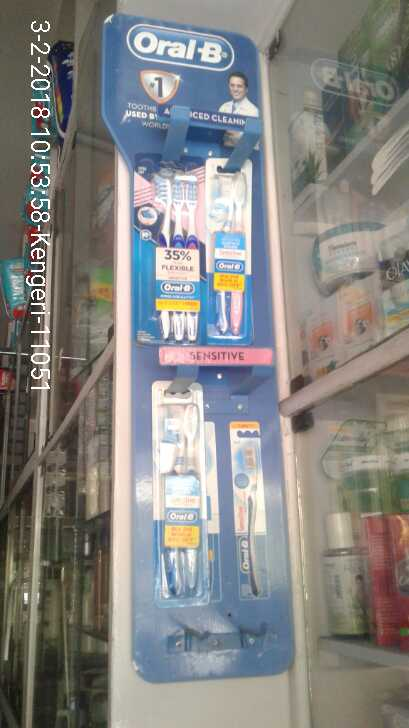oralb: (153, 405, 206, 602), (145, 169, 200, 342), (203, 168, 254, 338)
